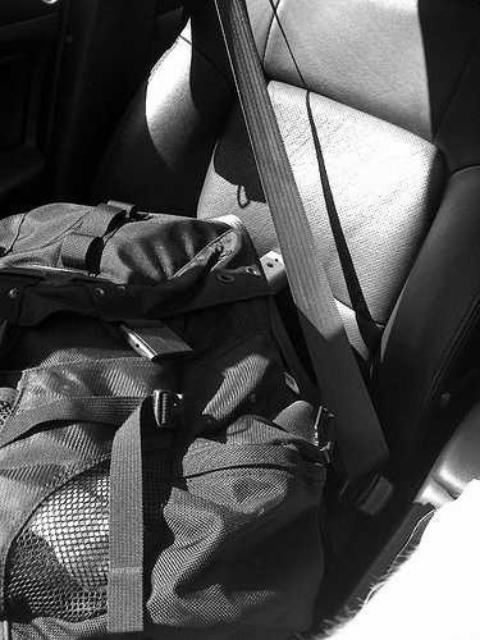Seatbelt: (204, 0, 392, 514)
